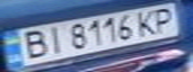1: (84, 17, 106, 46), (100, 15, 121, 44)
6: (115, 11, 139, 40)
8: (66, 20, 87, 51)
B: (15, 27, 54, 60)
I: (42, 24, 69, 55)
K: (133, 7, 163, 37)
P: (148, 6, 181, 34)
